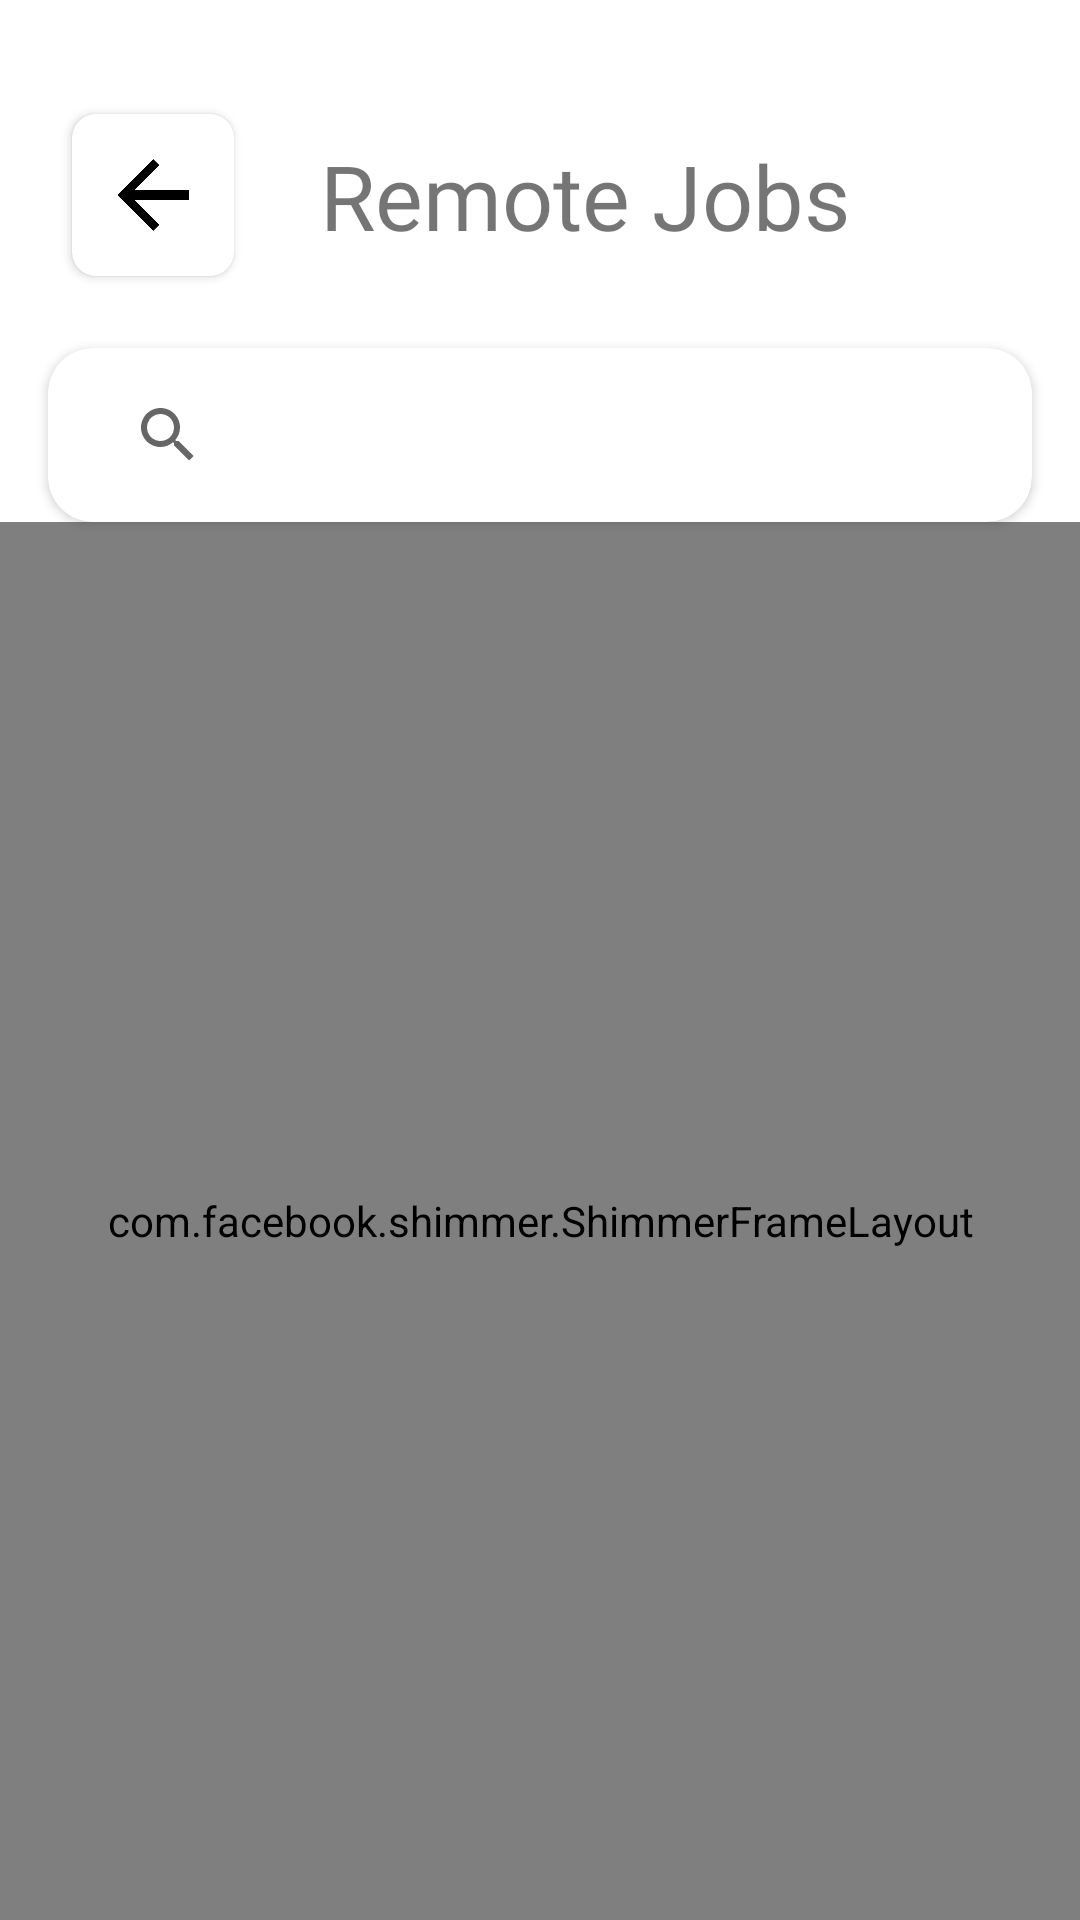

Icons on this 1080 x 1920 Android screen, each with its box as (x1, y1, x2, y2):
back: (118, 159, 189, 231)
